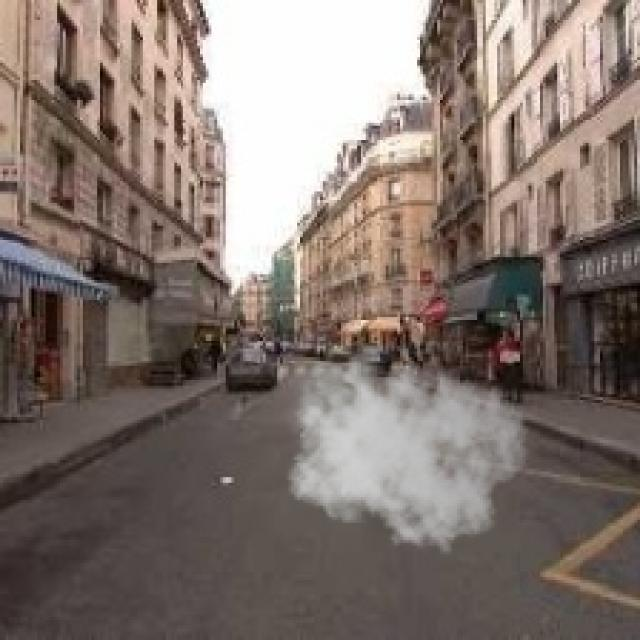Smoke: (280, 343, 529, 554)
